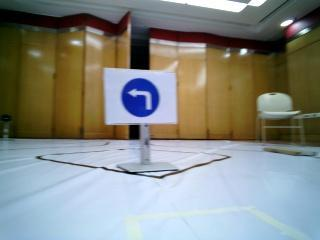left: (109, 73, 170, 120)
